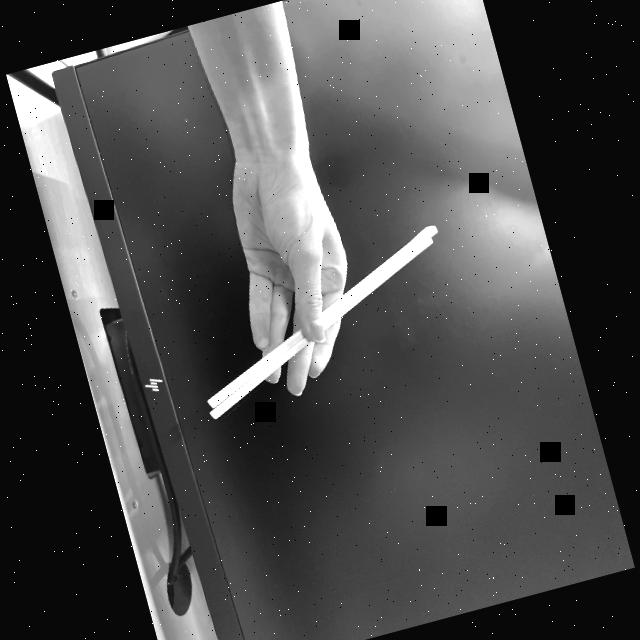stick: (175, 219, 468, 418)
